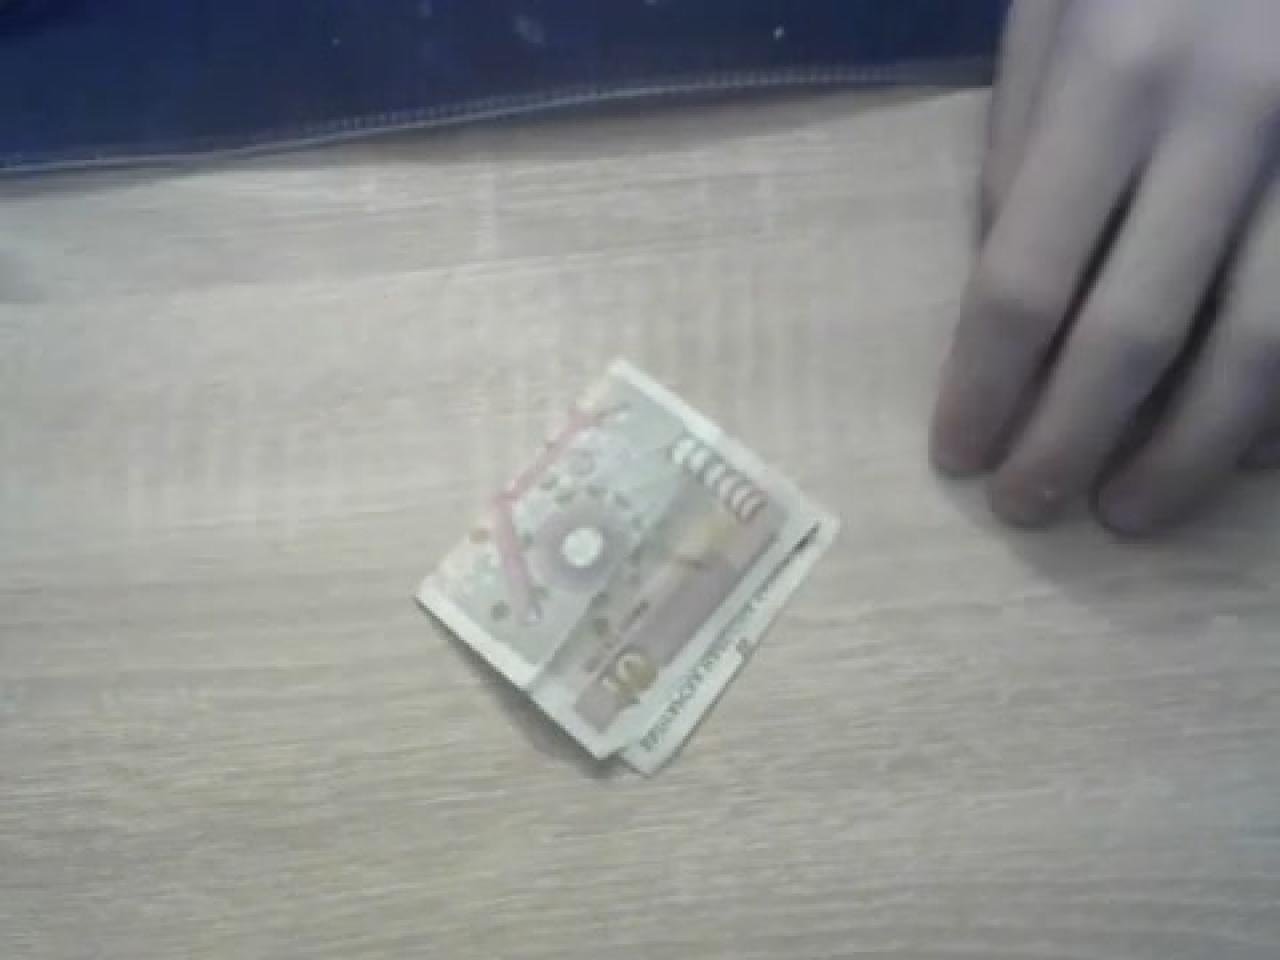10leva: (413, 355, 843, 778)
